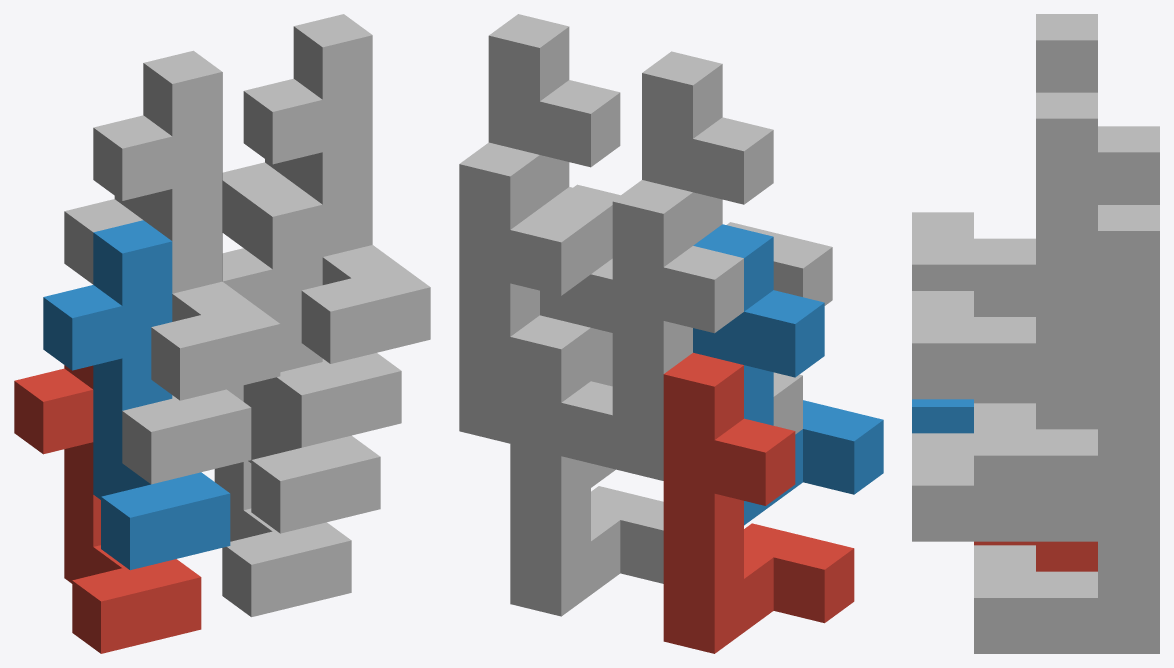
File: tiling.obj
The picture shows the model from 3 angles, left to right: view 1: azimuth 30°, elevation 25°; view 2: azimuth 150°, elevation 25°; view 3: azimuth 270°, elevation 25°; orthographic projection. The views are drawn at different scales.
Parts seen in each view (by area): view 1: copy_1_domain_4, copy_1_domain_8, copy_1_domain_2, copy_1_domain_6, copy_1_domain_1, copy_1_domain_3, copy_1_domain_7, copy_1_domain_5; view 2: copy_1_domain_1, copy_1_domain_5, copy_1_domain_3, copy_1_domain_7, copy_1_domain_2, copy_1_domain_4, copy_1_domain_8, copy_1_domain_6; view 3: copy_1_domain_8, copy_1_domain_7, copy_1_domain_5, copy_1_domain_4, copy_1_domain_6, copy_1_domain_3, copy_1_domain_1, copy_1_domain_2.
Boxes of the visible parts, bbox=[...] form: copy_1_domain_4: bbox=[93, 50, 280, 400]; copy_1_domain_8: bbox=[243, 14, 430, 363]; copy_1_domain_2: bbox=[43, 220, 230, 570]; copy_1_domain_6: bbox=[222, 183, 380, 533]; copy_1_domain_1: bbox=[14, 365, 201, 653]; copy_1_domain_3: bbox=[64, 196, 251, 484]; copy_1_domain_7: bbox=[222, 159, 401, 447]; copy_1_domain_5: bbox=[214, 385, 351, 617]; copy_1_domain_1: bbox=[663, 352, 854, 653]; copy_1_domain_5: bbox=[510, 315, 663, 616]; copy_1_domain_3: bbox=[612, 180, 802, 480]; copy_1_domain_7: bbox=[459, 142, 590, 443]; copy_1_domain_2: bbox=[693, 224, 883, 525]; copy_1_domain_4: bbox=[642, 51, 832, 305]; copy_1_domain_8: bbox=[488, 14, 620, 207]; copy_1_domain_6: bbox=[540, 187, 616, 487]; copy_1_domain_8: bbox=[912, 92, 1097, 399]; copy_1_domain_7: bbox=[974, 205, 1159, 511]; copy_1_domain_5: bbox=[974, 511, 1159, 653]; copy_1_domain_4: bbox=[912, 14, 1097, 316]; copy_1_domain_6: bbox=[912, 399, 1097, 541]; copy_1_domain_3: bbox=[974, 126, 1159, 403]; copy_1_domain_1: bbox=[974, 541, 1097, 571]; copy_1_domain_2: bbox=[912, 399, 973, 433].
Bounding box in the file's own units: 6 × 10 × 4.
